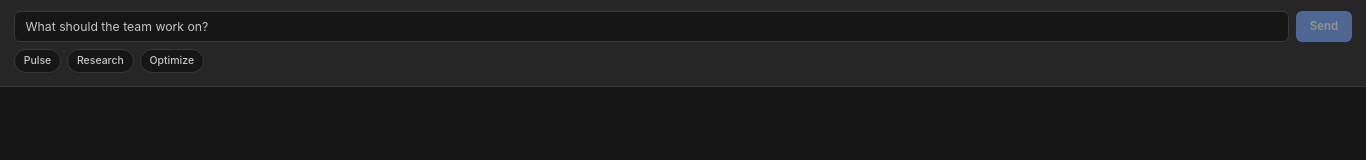
Test case: ChatBar — message dispatch › dismisses error on button click
This screenshot has width=1366, height=160.
Type "Test" into the field with test id "chat-input". click: (651, 26)
box: [14,10,1289,42]
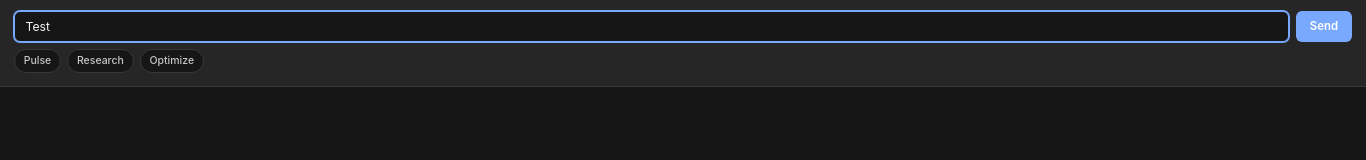
Click the button with test id "send-button". click: click(1324, 26)
box: [1296,10,1352,42]
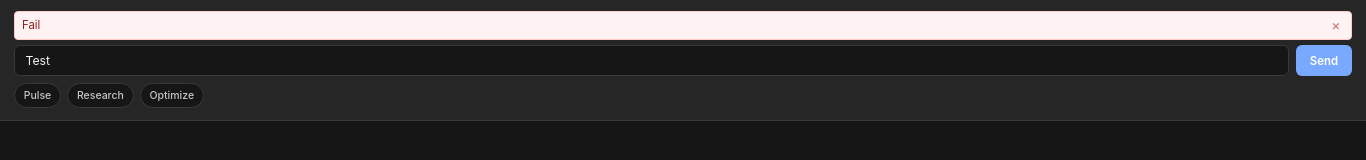
Result: the message "Fail ×" is shown at [14,10,1352,40]
Click the button named "Dismiss error". click: click(1336, 25)
box: [1328,18,1344,32]
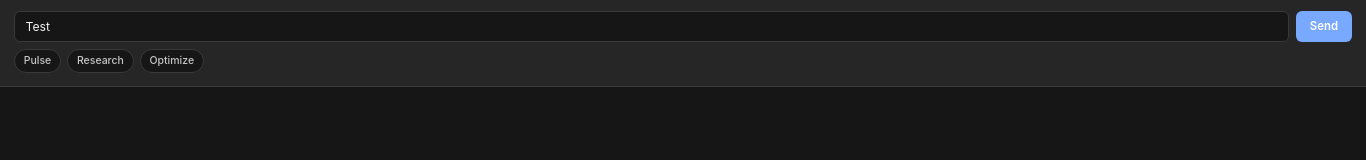
Result: the message with test id "chat-error" is gone
